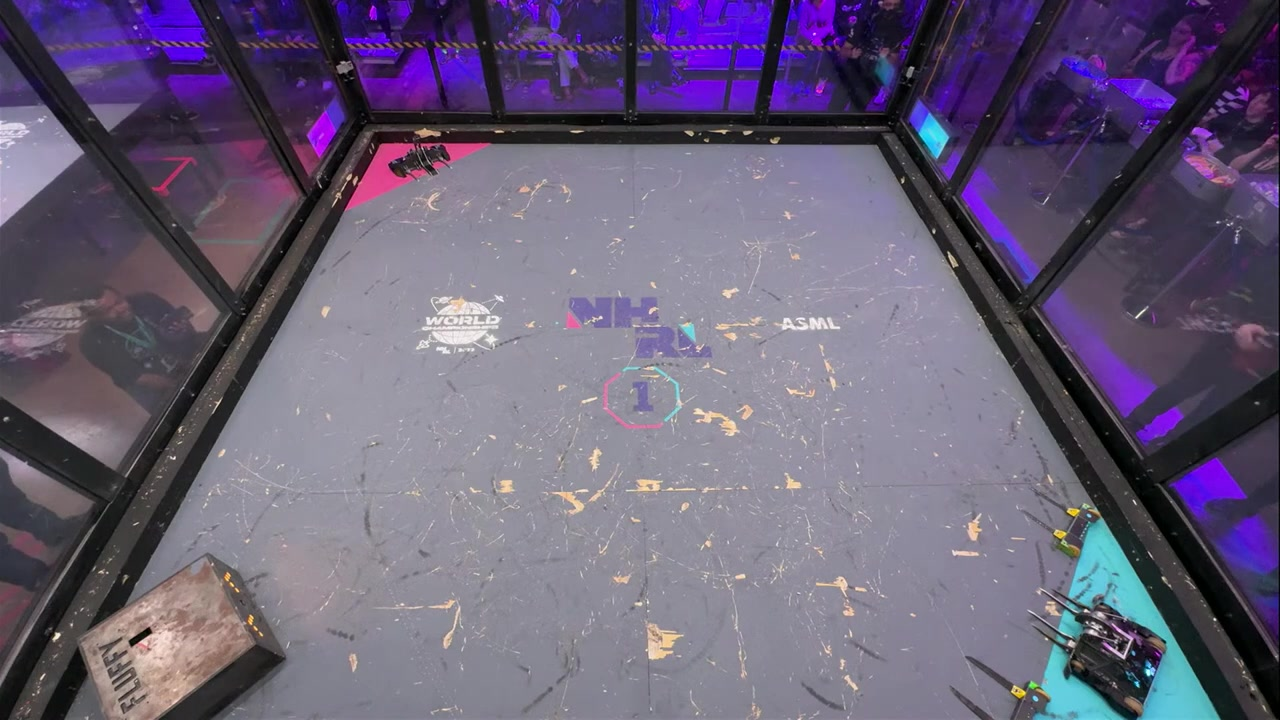combatbot: (1064, 598, 1168, 719), (389, 143, 449, 177)
housebot: (76, 554, 288, 720)
minibot: (1057, 504, 1102, 558), (1011, 684, 1050, 720)
